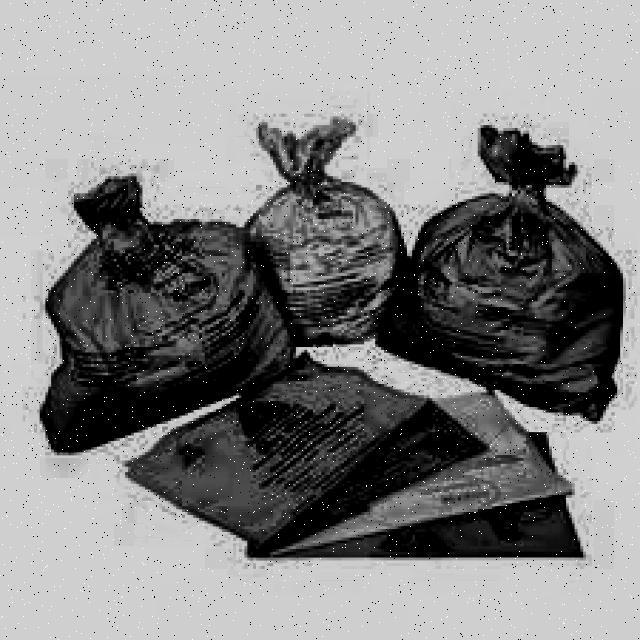Trashbag: (404, 195, 625, 427), (44, 218, 266, 442), (245, 162, 418, 347)
